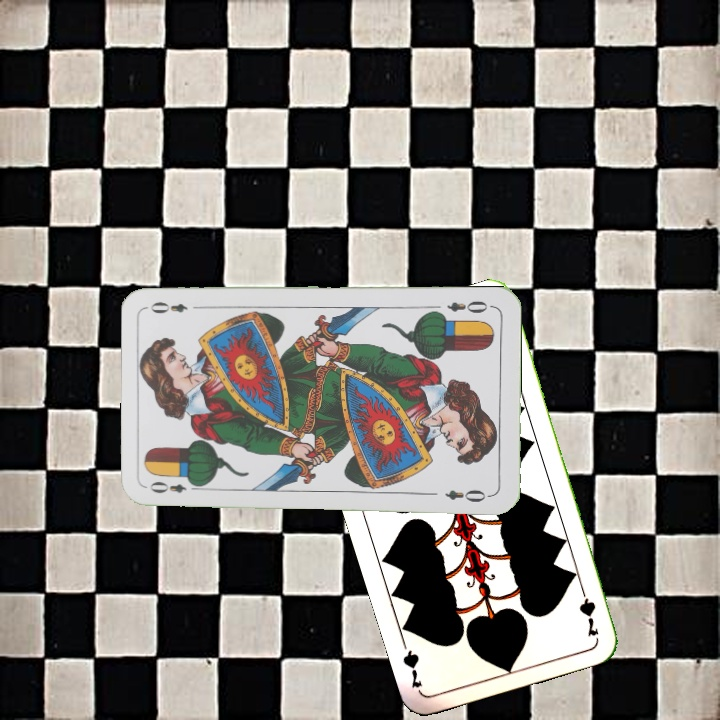EO: (146, 478, 204, 496), (443, 296, 495, 315)
G7: (575, 580, 602, 640)
